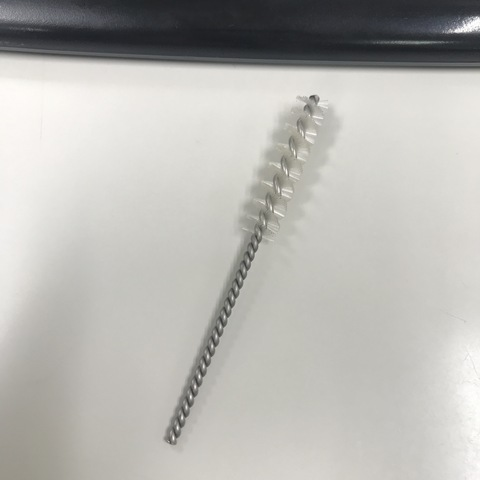Twist Brush-B: (161, 91, 336, 451)
